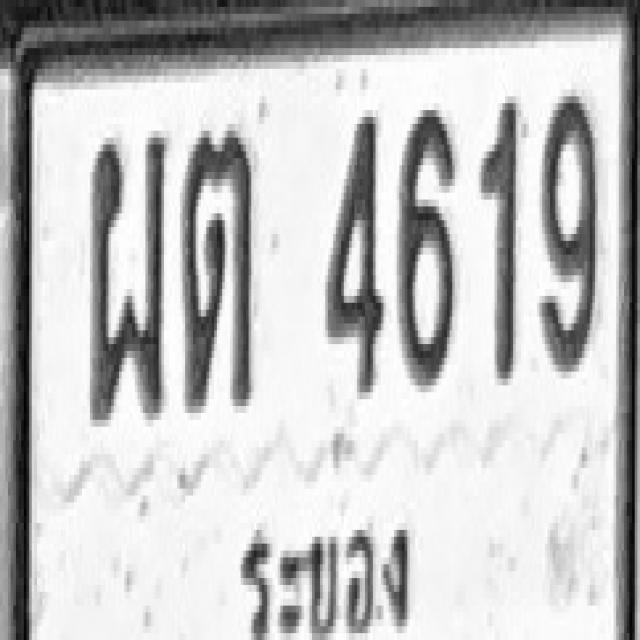1: (479, 96, 518, 378)
30TorTao: (181, 128, 253, 410)
37PhorPhueng: (89, 131, 165, 420)
4: (326, 110, 384, 392)
6: (397, 104, 455, 386)
9: (541, 90, 596, 372)
Rayong: (241, 506, 418, 640)
